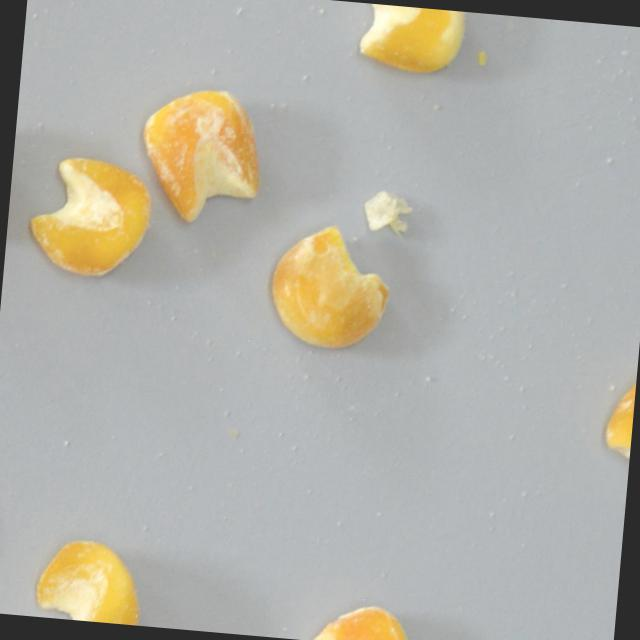dañado: (134, 77, 272, 231), (261, 219, 395, 357), (22, 152, 159, 286), (29, 532, 148, 626), (354, 2, 470, 80), (596, 350, 638, 485), (307, 595, 424, 640)
